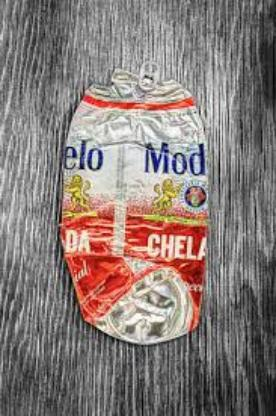Can: (60, 60, 210, 348)
